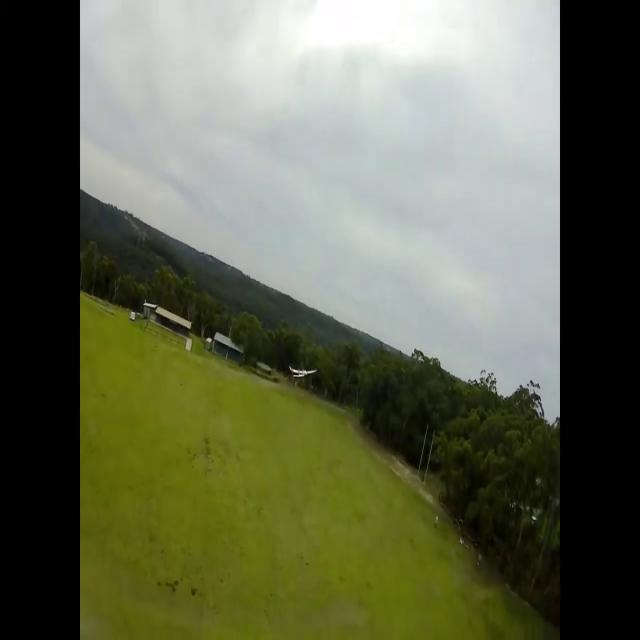iha: (288, 364, 316, 381)
